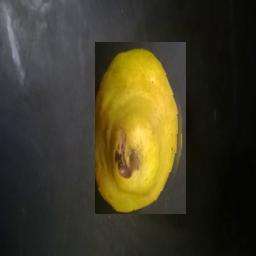Pear Semifresh: (95, 43, 186, 215)
